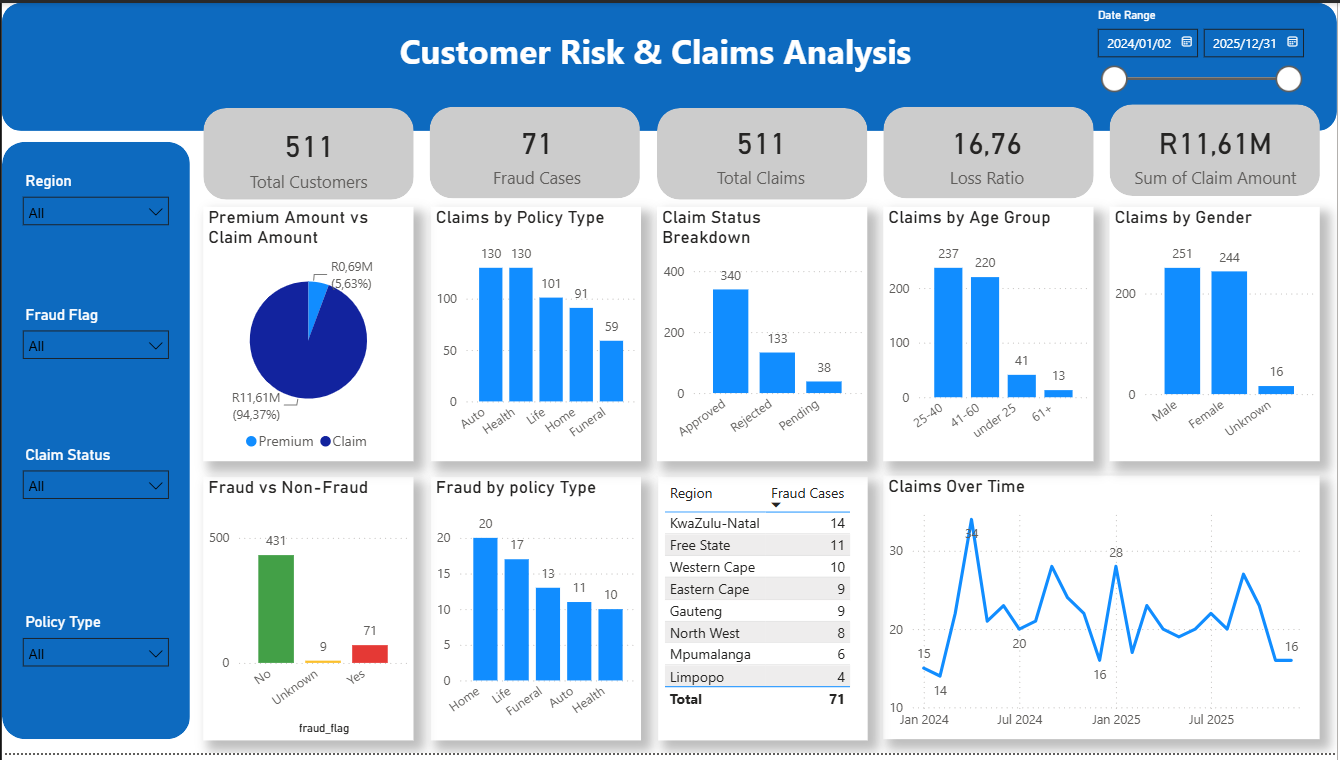

The dashboard page shown, as its layout file describes it:
{"tool":"powerbi","page":{"name":"Page 1","canvas":[1280,720],"ordinal":0},"visuals":[{"type":"shape","box":[0,0,1279.7,122.6],"z":0},{"type":"shape","box":[0,132.7,180.3,572.8],"z":1000},{"type":"textbox","box":[376.6,18.8,503.5,59.2],"z":2000},{"type":"shape","box":[193.3,101,202,88],"z":3000},{"type":"shape","box":[410.5,99,202,88],"z":4000},{"type":"shape","box":[627.6,100.4,202,88],"z":5000},{"type":"shape","box":[844.7,99,202,88],"z":6000},{"type":"shape","box":[1061.9,97.5,202,88],"z":7000},{"type":"card","fields":{"Values":["clean_insurance_data.total_claims"]},"box":[658.5,107.6,139.4,71.1],"z":8000},{"type":"card","fields":{"Values":["clean_insurance_data.total_customers"]},"box":[222.2,109.6,144.3,70.7],"z":9000},{"type":"card","fields":{"Values":["clean_insurance_data.loss_ratio"]},"box":[871.8,107.6,146.5,71.1],"z":10000},{"type":"card","fields":{"Values":["clean_insurance_data.fraud_cases"]},"box":[439.5,107.6,146.5,71.1],"z":11000},{"type":"card","fields":{"Values":["clean_insurance_data.total_claim_amount"]},"box":[1072.4,107.6,182,71.1],"z":12000},{"type":"slicer","fields":{"Values":["clean_insurance_data.province"]},"box":[10.1,157.3,160.1,95.2],"z":13000},{"type":"slicer","fields":{"Values":["clean_insurance_data.fraud_flag"]},"box":[10.1,285.7,160.1,92.3],"z":14000},{"type":"slicer","fields":{"Values":["clean_insurance_data.claim_status"]},"box":[10.1,419.8,160.1,93.8],"z":15000},{"type":"slicer","fields":{"Values":["clean_insurance_data.policy_type"]},"box":[10.1,580,160.1,77.9],"z":16000},{"type":"lineChart","title":"Claims Over Time","fields":{"Y":["clean_insurance_data.total_claims"],"Category":["clean_insurance_data.claim_date.Variation.Date Hierarchy.Year","clean_insurance_data.claim_date.Variation.Date Hierarchy.Month"]},"box":[845.5,453,418.4,252.5],"z":17000},{"type":"clusteredColumnChart","title":"Fraud by policy Type","fields":{"Category":["clean_insurance_data.policy_type"],"Y":["clean_insurance_data.fraud_cases"]},"box":[411.2,454.5,202,252.5],"z":18000},{"type":"tableEx","fields":{"Values":["clean_insurance_data.province","clean_insurance_data.fraud_cases"]},"box":[629,454.5,200.5,252.5],"z":19000},{"type":"clusteredColumnChart","title":"Fraud vs Non-Fraud","fields":{"Category":["clean_insurance_data.fraud_flag"],"Y":["clean_insurance_data.total_claims"]},"box":[193.3,454.5,202,252.5],"z":20000},{"type":"clusteredColumnChart","title":"Claims by Policy Type","fields":{"Category":["clean_insurance_data.policy_type"],"Y":["clean_insurance_data.total_claims"]},"box":[411.2,194.8,202,243.8],"z":21000},{"type":"clusteredColumnChart","title":"Claim Status Breakdown","fields":{"Category":["clean_insurance_data.claim_status"],"Y":["clean_insurance_data.total_claims"]},"box":[627.6,194.8,202,243.8],"z":22000},{"type":"clusteredColumnChart","title":"Claims by Age Group","fields":{"Category":["clean_insurance_data.age_group"],"Y":["clean_insurance_data.total_claims"]},"box":[845.5,194.8,202,243.8],"z":23000},{"type":"clusteredColumnChart","title":"Claims by Gender","fields":{"Category":["clean_insurance_data.gender"],"Y":["clean_insurance_data.total_claims"]},"box":[1061.9,194.8,202,243.8],"z":24000},{"type":"pieChart","title":"Premium Amount vs Claim Amount","fields":{"Y":["Sum(clean_insurance_data.premium_amount)","Sum(clean_insurance_data.claim_amount)"]},"box":[193.3,194.8,202,243.8],"z":25000},{"type":"slicer","fields":{"Values":["clean_insurance_data.claim_date"]},"box":[1037.9,0,216.9,89.9],"z":26000}]}

Visuals, with their boxes in screenshot pixels (x1, y1, x2, y2), scaled from the page's 1280x720 canvas onto the 1340x760 screenshot:
shape: {"left": 0, "top": 0, "right": 1339, "bottom": 129}
shape: {"left": 0, "top": 140, "right": 189, "bottom": 745}
textbox: {"left": 394, "top": 20, "right": 921, "bottom": 82}
shape: {"left": 202, "top": 107, "right": 414, "bottom": 200}
shape: {"left": 430, "top": 104, "right": 641, "bottom": 197}
shape: {"left": 657, "top": 106, "right": 868, "bottom": 199}
shape: {"left": 884, "top": 104, "right": 1096, "bottom": 197}
shape: {"left": 1112, "top": 103, "right": 1323, "bottom": 196}
card - clean_insurance_data.total_claims: {"left": 689, "top": 114, "right": 835, "bottom": 189}
card - clean_insurance_data.total_customers: {"left": 233, "top": 116, "right": 384, "bottom": 190}
card - clean_insurance_data.loss_ratio: {"left": 913, "top": 114, "right": 1066, "bottom": 189}
card - clean_insurance_data.fraud_cases: {"left": 460, "top": 114, "right": 613, "bottom": 189}
card - clean_insurance_data.total_claim_amount: {"left": 1123, "top": 114, "right": 1313, "bottom": 189}
slicer - clean_insurance_data.province: {"left": 11, "top": 166, "right": 178, "bottom": 267}
slicer - clean_insurance_data.fraud_flag: {"left": 11, "top": 302, "right": 178, "bottom": 399}
slicer - clean_insurance_data.claim_status: {"left": 11, "top": 443, "right": 178, "bottom": 542}
slicer - clean_insurance_data.policy_type: {"left": 11, "top": 612, "right": 178, "bottom": 694}
"Claims Over Time" lineChart: {"left": 885, "top": 478, "right": 1323, "bottom": 745}
"Fraud by policy Type" clusteredColumnChart: {"left": 430, "top": 480, "right": 642, "bottom": 746}
tableEx - clean_insurance_data.province x clean_insurance_data.fraud_cases: {"left": 658, "top": 480, "right": 868, "bottom": 746}
"Fraud vs Non-Fraud" clusteredColumnChart: {"left": 202, "top": 480, "right": 414, "bottom": 746}
"Claims by Policy Type" clusteredColumnChart: {"left": 430, "top": 206, "right": 642, "bottom": 463}
"Claim Status Breakdown" clusteredColumnChart: {"left": 657, "top": 206, "right": 868, "bottom": 463}
"Claims by Age Group" clusteredColumnChart: {"left": 885, "top": 206, "right": 1097, "bottom": 463}
"Claims by Gender" clusteredColumnChart: {"left": 1112, "top": 206, "right": 1323, "bottom": 463}
"Premium Amount vs Claim Amount" pieChart: {"left": 202, "top": 206, "right": 414, "bottom": 463}
slicer - clean_insurance_data.claim_date: {"left": 1087, "top": 0, "right": 1314, "bottom": 95}
